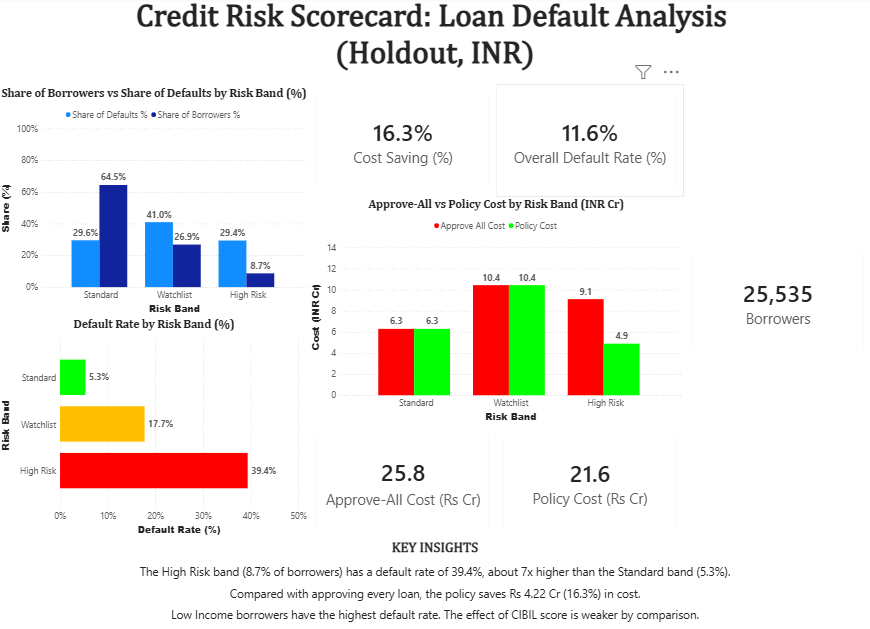

The page's visual inventory and layout, read from the dashboard file:
{"tool":"powerbi","page":{"name":"Executive Summary","canvas":[2000,1450],"ordinal":0},"visuals":[{"type":"cardVisual","fields":{"Data":["loan_scored_final_sql.Borrowers"]},"box":[1570.6,569.3,430,259.2],"z":0},{"type":"cardVisual","fields":{"Data":["loan_scored_final_sql.Default Rate %"]},"box":[1140.8,199.4,430,259],"z":1000},{"type":"cardVisual","fields":{"Data":["loan_scored_final_sql.Approve All Cost Cr"]},"box":[711.1,981.3,430,259.2],"z":2000},{"type":"cardVisual","fields":{"Data":["loan_scored_final_sql.Policy Cost Cr"]},"box":[1140.8,981.3,430,259.2],"z":3000},{"type":"cardVisual","fields":{"Data":["loan_scored_final_sql.Saving %"]},"box":[711.1,199.4,430,259],"z":4000},{"type":"clusteredColumnChart","title":"Share of Borrowers vs Share of Defaults by Risk Band (%)","fields":{"Category":["loan_scored_final_sql.ModelBand"],"Y":["loan_scored_final_sql.Share of Defaults %","loan_scored_final_sql.Share of Borrowers %"]},"box":[0,203.8,711.1,529.4],"z":5000},{"type":"barChart","title":"Default Rate by Risk Band (%)","fields":{"Category":["loan_scored_final_sql.ModelBand"],"Y":["loan_scored_final_sql.Default Rate %"]},"box":[0,733.2,711.1,507.3],"z":6000},{"type":"clusteredColumnChart","title":"Approve-All vs Policy Cost by Risk Band (INR Cr)","fields":{"Y":["loan_scored_final_sql.Approve All Cost Cr","loan_scored_final_sql.Policy Cost Cr"],"Category":["loan_scored_final_sql.ModelBand"]},"box":[711.1,458.5,859.5,522.8],"z":7000},{"type":"textbox","box":[0,0,2000.3,183.9],"z":8000},{"type":"textbox","box":[0,1294,2000.6,50.5],"z":9000},{"type":"textbox","box":[0,1344.5,2000.6,48.2],"z":10000},{"type":"textbox","box":[0,1392.6,2000.6,57.4],"z":11000},{"type":"textbox","box":[0,1241.2,2000.6,52.8],"z":12000}]}

Visuals, with their boxes in screenshot pixels (x1, y1, x2, y2), scaled from the page's 2000x1450 canvas onto the 870x629 screenshot:
cardVisual - loan_scored_final_sql.Borrowers: 683:247:869:359
cardVisual - loan_scored_final_sql.Default Rate %: 496:86:683:199
cardVisual - loan_scored_final_sql.Approve All Cost Cr: 309:426:496:538
cardVisual - loan_scored_final_sql.Policy Cost Cr: 496:426:683:538
cardVisual - loan_scored_final_sql.Saving %: 309:86:496:199
"Share of Borrowers vs Share of Defaults by Risk Band (%)" clusteredColumnChart: 0:88:309:318
"Default Rate by Risk Band (%)" barChart: 0:318:309:538
"Approve-All vs Policy Cost by Risk Band (INR Cr)" clusteredColumnChart: 309:199:683:426
textbox: 0:0:869:80
textbox: 0:561:869:583
textbox: 0:583:869:604
textbox: 0:604:869:628
textbox: 0:538:869:561
